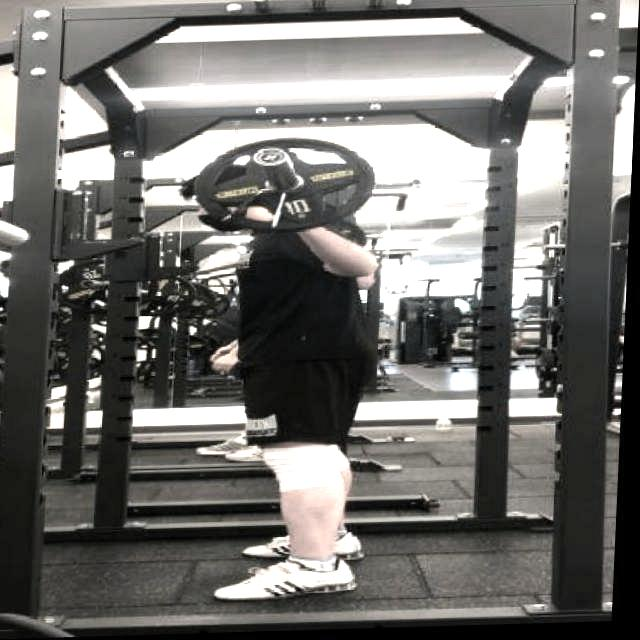barbell: (192, 128, 384, 242)
